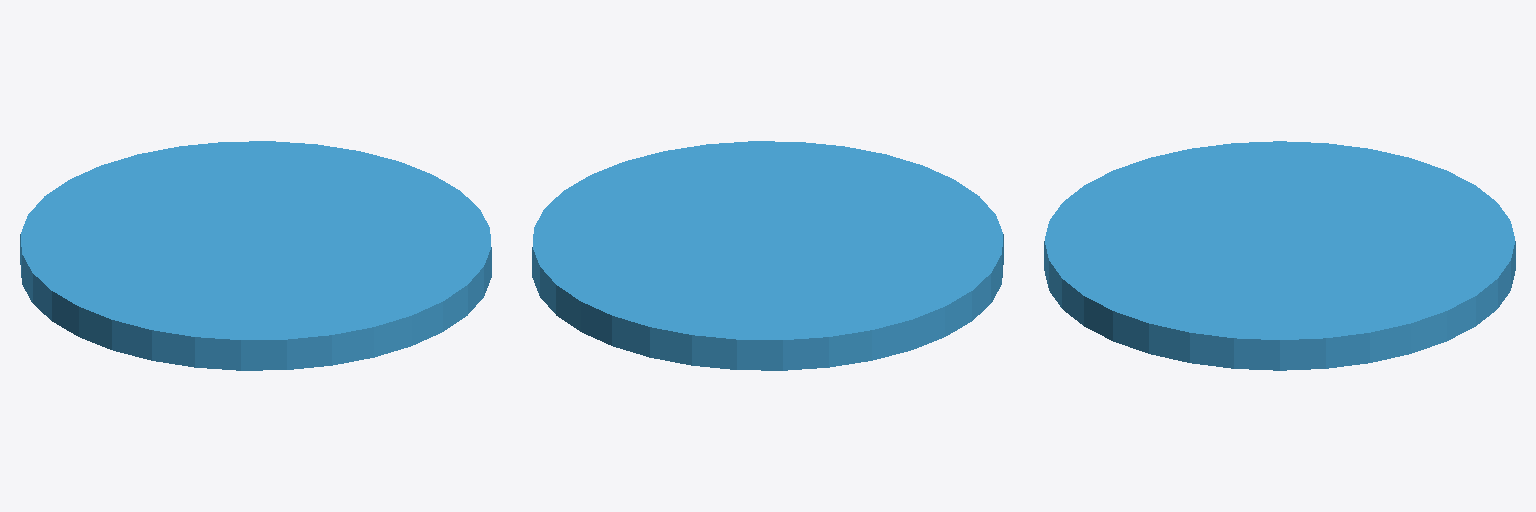
URDF robot description (hand4f):
<?xml version="1.0" encoding="utf-8"?>

<robot name="hand4f">

  <material name="black">
    <color rgba="0 0 0 1"/>
  </material>
  <material name="gray">
    <color rgba="0.1 0.1 0.1 1"/>
  </material>
  <material name="lightgray">
    <color rgba="0.8 0.8 0.8 1"/>
  </material>


  <!-- Base Link -->
  <link name="base_link">
    <origin rpy="0.0 0.0 0.0" xyz="0.0 0.0 0.0"/>
  </link>


  <!-- Hand Plate -->
  <link name="hand_plate">
    <visual>
      <origin xyz="0 0 0" rpy="0 0 0" />
      <geometry>
        <cylinder radius="0.14" length="0.02" />
      </geometry>
    </visual>
    <collision>
      <origin xyz="0 0 0" rpy="0 0 0" />
      <geometry>
        <cylinder radius="0.14" length="0.02" />
      </geometry>
    </collision>
  </link>
  <joint name="hand_plate_joint" type="fixed">
    <origin xyz="0 0 0" rpy="0 0 0" />
    <parent link="base_link" />
    <child link="hand_plate" />
  </joint>


  <!-- Finger 1 -->
  <link name="finger1_proximal">
    <visual>
      <origin rpy="0 0 0" xyz="0 0 0" />
      <geometry>
        <mesh filename="package://hand/urdf/meshes/visual/proximal.dae"/>
      </geometry>
      <material name="gray"/>
    </visual>
    <collision>
      <origin rpy="0 0 0" xyz="0 0 0" />
      <geometry>
        <mesh filename="package://hand/urdf/meshes/collision/proximal.obj"/>
      </geometry>
    </collision>
    <inertial>
      <mass value="0.09313"/>
    </inertial>
  </link>
  <link name="finger1_middle">
    <visual>
      <origin rpy="0 0 0" xyz="0 0 0" />
      <geometry>
        <mesh filename="package://hand/urdf/meshes/visual/middle.dae"/>
      </geometry>
      <material name="gray"/>
    </visual>
    <collision>
      <origin rpy="0 0 0" xyz="0 0 0" />
      <geometry>
        <mesh filename="package://hand/urdf/meshes/collision/middle.obj"/>
      </geometry>
    </collision>
    <inertial>
      <mass value="0.09930"/>
    </inertial>
  </link>
  <link name="finger1_distal">
    <visual>
      <origin rpy="0 3.14159265359 0" xyz="0 0 0"/>
      <geometry>
        <mesh filename="package://hand/urdf/meshes/visual/distal.dae"/>
      </geometry>
      <material name="lightgray"/>
    </visual>
    <collision name="tip">
      <origin rpy="-1.57079633 1.57079633 0" xyz="0.0 0.1043 0.0"/>
      <geometry>
        <sphere radius="0.019"/>
      </geometry>
    </collision>
    <collision name="body">
      <origin rpy="-1.57079633 1.57079633 0" xyz="0 0.06358 0.0"/>
      <geometry>
        <cylinder length="0.0815" radius="0.019"/>
      </geometry>
    </collision>
    <inertial>
      <mass value="0.09268"/>
      <inertia ixx="0.01" ixy="0.00" ixz="0.00" iyy="0.01" iyz="0.0" izz="0.01"/>
      <!-- inertia is recomputed when loading asset  -->
    </inertial>
  </link>
  <link name="finger1_distal_tip">
  </link>
  <joint name="finger1_proximal_joint" type="revolute">
    <parent link="hand_plate"/>
    <child link="finger1_proximal"/>
    <origin rpy="1.5707963267948966 0 -1.5707963267948966" xyz="-0.110 0.0 0.0"/>
    <axis xyz="0 1 0"/>
    <limit effort="4" velocity="1.0" lower="-1.0" upper="1.0"/>
  </joint>
  <joint name="finger1_middle_joint" type="revolute">
    <parent link="finger1_proximal"/>
    <child link="finger1_middle"/>
    <origin rpy="0 0 0" xyz="0 0.0655 0"/>
    <axis xyz="-1 0 0"/>
    <limit effort="4" velocity="1.0" lower="0.0" upper="1.0"/>
  </joint>
  <joint name="finger1_distal_joint" type="revolute">
    <parent link="finger1_middle"/>
    <child link="finger1_distal"/>
    <origin rpy="0 0 0" xyz="0 0.069 0"/>
    <axis xyz="-1 0 0"/>
    <limit effort="4" velocity="1.0" lower="0.0" upper="1.0"/>
  </joint>
  <joint name="finger1_distal_tip_joint" type="fixed">
    <parent link="finger1_distal"/>
    <child link="finger1_distal_tip"/>
    <origin rpy="-1.57079633 1.57079633 0" xyz="0.0 0.1035 0.0"/>
  </joint>


  <!-- Finger 2 -->
  <link name="finger2_proximal">
    <visual>
      <origin rpy="0 0 0" xyz="0 0 0" />
      <geometry>
        <mesh filename="package://hand/urdf/meshes/visual/proximal.dae"/>
      </geometry>
      <material name="gray"/>
    </visual>
    <collision>
      <origin rpy="0 0 0" xyz="0 0 0" />
      <geometry>
        <mesh filename="package://hand/urdf/meshes/collision/proximal.obj"/>
      </geometry>
    </collision>
    <inertial>
      <mass value="0.09313"/>
    </inertial>
  </link>
  <link name="finger2_middle">
    <visual>
      <origin rpy="0 0 0" xyz="0 0 0" />
      <geometry>
        <mesh filename="package://hand/urdf/meshes/visual/middle.dae"/>
      </geometry>
      <material name="gray"/>
    </visual>
    <collision>
      <origin rpy="0 0 0" xyz="0 0 0" />
      <geometry>
        <mesh filename="package://hand/urdf/meshes/collision/middle.obj"/>
      </geometry>
    </collision>
    <inertial>
      <mass value="0.09930"/>
    </inertial>
  </link>
  <link name="finger2_distal">
    <visual>
      <origin rpy="0 3.14159265359 0" xyz="0 0 0" />
      <geometry>
        <mesh filename="package://hand/urdf/meshes/visual/distal.dae"/>
      </geometry>
      <material name="lightgray"/>
    </visual>
    <collision name="tip">
      <origin rpy="-1.57079633 1.57079633 0" xyz="0.0 0.1043 0.0"/>
      <geometry>
        <sphere radius="0.019"/>
      </geometry>
    </collision>
    <collision name="body">
      <origin rpy="-1.57079633 1.57079633 0" xyz="0 0.06358 0.0"/>
      <geometry>
        <cylinder length="0.0815" radius="0.019"/>
      </geometry>
    </collision>
    <inertial>
      <mass value="0.09268"/>
      <inertia ixx="0.01" ixy="0.00" ixz="0.00" iyy="0.01" iyz="0.0" izz="0.01"/>
      <!-- inertia is recomputed when loading asset  -->
    </inertial>
  </link>
  <link name="finger2_distal_tip">
  </link>
  <joint name="finger2_proximal_joint" type="revolute">
    <parent link="hand_plate"/>
    <child link="finger2_proximal"/>
    <origin rpy="1.5707963267948966 0 2.35" xyz="0.077 0.077 0.0"/>
    <axis xyz="0 1 0"/>
    <limit effort="4" velocity="1.0" lower="-1.0" upper="1.0"/>
  </joint>
  <joint name="finger2_middle_joint" type="revolute">
    <parent link="finger2_proximal"/>
    <child link="finger2_middle"/>
    <origin rpy="0 0 0" xyz="0 0.0655 0"/>
    <axis xyz="-1 0 0"/>
    <limit effort="4" velocity="1.0" lower="0.0" upper="1.0"/>
  </joint>
  <joint name="finger2_distal_joint" type="revolute">
    <parent link="finger2_middle"/>
    <child link="finger2_distal"/>
    <origin rpy="0 0 0" xyz="0 0.069 0"/>
    <axis xyz="-1 0 0"/>
    <limit effort="4" velocity="1.0" lower="0.0" upper="1.0"/>
  </joint>
  <joint name="finger2_distal_tip_joint" type="fixed">
    <parent link="finger2_distal"/>
    <child link="finger2_distal_tip"/>
    <origin rpy="-1.57079633 1.57079633 0" xyz="0.0 0.1035 0.0"/>
  </joint>


  <!-- Finger 3 -->
  <link name="finger3_proximal">
     <visual>
      <origin rpy="0 0 0" xyz="0 0 0" />
      <geometry>
        <mesh filename="package://hand/urdf/meshes/visual/proximal.dae"/>
      </geometry>
      <material name="gray"/>
    </visual>
    <collision>
      <origin rpy="0 0 0" xyz="0 0 0" />
      <geometry>
        <mesh filename="package://hand/urdf/meshes/collision/proximal.obj"/>
      </geometry>
    </collision>
     <inertial>
      <mass value="0.09313"/>
    </inertial>
  </link>
  <link name="finger3_middle">
    <visual>
      <origin rpy="0 0 0" xyz="0 0 0" />
      <geometry>
        <mesh filename="package://hand/urdf/meshes/visual/middle.dae"/>
      </geometry>
      <material name="gray"/>
    </visual>
    <collision>
      <origin rpy="0 0 0" xyz="0 0 0" />
      <geometry>
        <mesh filename="package://hand/urdf/meshes/collision/middle.obj"/>
      </geometry>
    </collision>
    <inertial>
      <mass value="0.09930"/>
    </inertial>
  </link>
  <link name="finger3_distal">
    <visual>
      <origin rpy="0 3.14159265359 0" xyz="0 0 0" />
      <geometry>
        <mesh filename="package://hand/urdf/meshes/visual/distal.dae"/>
      </geometry>
      <material name="lightgray"/>
    </visual>
    <collision name="tip">
      <origin rpy="-1.57079633 1.57079633 0" xyz="0.0 0.1043 0.0"/>
      <geometry>
        <sphere radius="0.019"/>
      </geometry>
    </collision>
    <collision name="body">
      <origin rpy="-1.57079633 1.57079633 0" xyz="0 0.06358 0.0"/>
      <geometry>
        <cylinder length="0.0815" radius="0.019"/>
      </geometry>
    </collision>
    <inertial>
      <mass value="0.09268"/>
      <inertia ixx="0.01" ixy="0.00" ixz="0.00" iyy="0.01" iyz="0.0" izz="0.01"/>
      <!-- inertia is recomputed when loading asset  -->
    </inertial>
  </link>
  <link name="finger3_distal_tip">
  </link>
  <joint name="finger3_proximal_joint" type="revolute">
    <parent link="hand_plate"/>
    <child link="finger3_proximal"/>
    <origin rpy="1.5707963267948966 0 1.57" xyz="0.110  0.0  0.0"/>
    <axis xyz="0 1 0"/>
    <limit effort="4" velocity="1.0" lower="-1.0" upper="1.0"/>
  </joint>
  <joint name="finger3_middle_joint" type="revolute">
    <parent link="finger3_proximal"/>
    <child link="finger3_middle"/>
    <origin rpy="0 0 0" xyz="0 0.0655 0"/>
    <axis xyz="-1 0 0"/>
    <limit effort="4" velocity="1.0" lower="0.0" upper="1.0"/>
  </joint>
  <joint name="finger3_distal_joint" type="revolute">
    <parent link="finger3_middle"/>
    <child link="finger3_distal"/>
    <origin rpy="0 0 0" xyz="0 0.069 0"/>
    <axis xyz="-1 0 0"/>
    <limit effort="4" velocity="1.0" lower="0.0" upper="1.0"/>
  </joint>
  <joint name="finger3_distal_tip_joint" type="fixed">
    <parent link="finger3_distal"/>
    <child link="finger3_distal_tip"/>
    <origin rpy="-1.57079633 1.57079633 0" xyz="0.0 0.1035 0.0"/>
  </joint>


  <!-- Finger 4 -->
  <link name="finger4_proximal">
     <visual>
      <origin rpy="0 0 0" xyz="0 0 0" />
      <geometry>
        <mesh filename="package://hand/urdf/meshes/visual/proximal.dae"/>
      </geometry>
      <material name="gray"/>
    </visual>
    <collision>
      <origin rpy="0 0 0" xyz="0 0 0" />
      <geometry>
        <mesh filename="package://hand/urdf/meshes/collision/proximal.obj"/>
      </geometry>
    </collision>
    <inertial>
      <mass value="0.09313"/>
    </inertial>
  </link>
  <link name="finger4_middle">
   <visual>
      <origin rpy="0 0 0" xyz="0 0 0" />
      <geometry>
        <mesh filename="package://hand/urdf/meshes/visual/middle.dae"/>
      </geometry>
      <material name="gray"/>
    </visual>
    <collision>
      <origin rpy="0 0 0" xyz="0 0 0" />
      <geometry>
        <mesh filename="package://hand/urdf/meshes/collision/middle.obj"/>
      </geometry>
    </collision>
    <inertial>
      <mass value="0.09930"/>
    </inertial>
  </link>
  <link name="finger4_distal">
    <visual>
      <origin rpy="0 3.14159265359 0" xyz="0 0 0" />
      <geometry>
        <mesh filename="package://hand/urdf/meshes/visual/distal.dae"/>
      </geometry>
      <material name="lightgray"/>
    </visual>
    <collision name="tip">
      <origin rpy="-1.57079633 1.57079633 0" xyz="0.0 0.1043 0.0"/>
      <geometry>
        <sphere radius="0.019"/>
      </geometry>
    </collision>
    <collision name="body">
      <origin rpy="-1.57079633 1.57079633 0" xyz="0 0.06358 0.0"/>
      <geometry>
        <cylinder length="0.0815" radius="0.019"/>
      </geometry>
    </collision>
    <inertial>
      <mass value="0.09268"/>
      <inertia ixx="0.01" ixy="0.00" ixz="0.00" iyy="0.01" iyz="0.0" izz="0.01"/>
      <!-- inertia is recomputed when loading asset  -->
    </inertial>
  </link>
  <link name="finger4_distal_tip">
  </link>
  <joint name="finger4_proximal_joint" type="revolute">
    <parent link="hand_plate"/>
    <child link="finger4_proximal"/>
    <origin rpy="1.5707963267948966 0 0.785" xyz="0.077 -0.077  0.0"/>
    <axis xyz="0 1 0"/>
    <limit effort="4" velocity="1.0" lower="-1.0" upper="1.0"/>
  </joint>
  <joint name="finger4_middle_joint" type="revolute">
    <parent link="finger4_proximal"/>
    <child link="finger4_middle"/>
    <origin rpy="0 0 0" xyz="0 0.0655 0"/>
    <axis xyz="-1 0 0"/>
    <limit effort="4" velocity="1.0" lower="0.0" upper="1.0"/>
  </joint>
  <joint name="finger4_distal_joint" type="revolute">
    <parent link="finger4_middle"/>
    <child link="finger4_distal"/>
    <origin rpy="0 0 0" xyz="0 0.069 0"/>
    <axis xyz="-1 0 0"/>
    <limit effort="4" velocity="1.0" lower="0.0" upper="1.0"/>
  </joint>
  <joint name="finger4_distal_tip_joint" type="fixed">
    <parent link="finger4_distal"/>
    <child link="finger4_distal_tip"/>
    <origin rpy="-1.57079633 1.57079633 0" xyz="0.0 0.1035 0.0"/>
  </joint>


</robot>

--- Facts derived from the render (not from the file) ---
3 views of the same robot in one strip: view 1: azimuth 30°, elevation 25°; view 2: azimuth 150°, elevation 25°; view 3: azimuth 270°, elevation 25° (orthographic).
Robot: hand4f — 18 links, 17 joints (12 revolute, 5 fixed); root link base_link; default pose: every joint at zero.
Visible links, largest first — view 1: hand_plate; view 2: hand_plate; view 3: hand_plate.
Boxes of the visible links, left/top/right/bottom form: hand_plate: left=20, top=141, right=491, bottom=370; hand_plate: left=532, top=141, right=1003, bottom=370; hand_plate: left=1044, top=141, right=1515, bottom=370.
Bounding box of the posed robot: 0.28 × 0.28 × 0.02 m (x, y, z).
0 mesh visuals loaded from 3 distinct referenced files (none loaded); not drawn: 12 (reference not matched to a file when rendering).